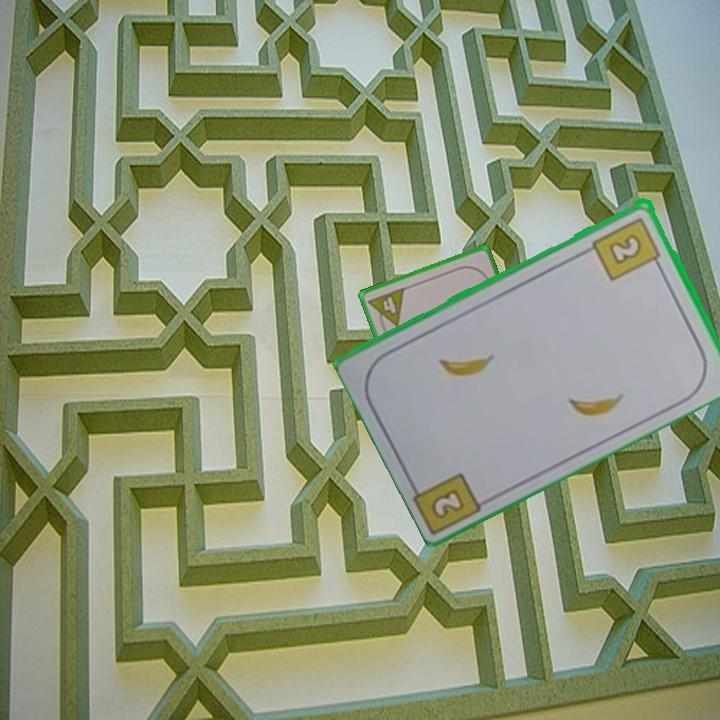2b: (589, 213, 665, 283), (427, 484, 468, 522)
4p: (365, 284, 407, 334)
